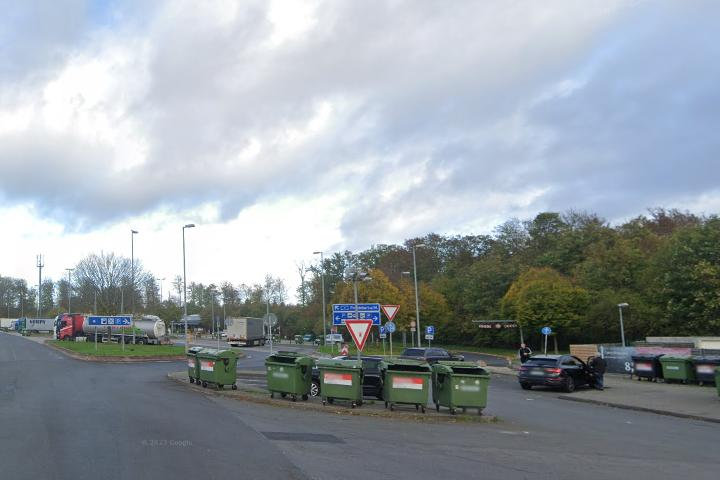traffic_sign: (343, 318, 375, 353), (381, 305, 400, 321), (385, 321, 396, 332), (541, 327, 551, 335), (410, 320, 416, 328)
vehicle: (50, 311, 167, 344), (518, 351, 598, 395), (219, 313, 270, 349), (11, 316, 64, 335)
